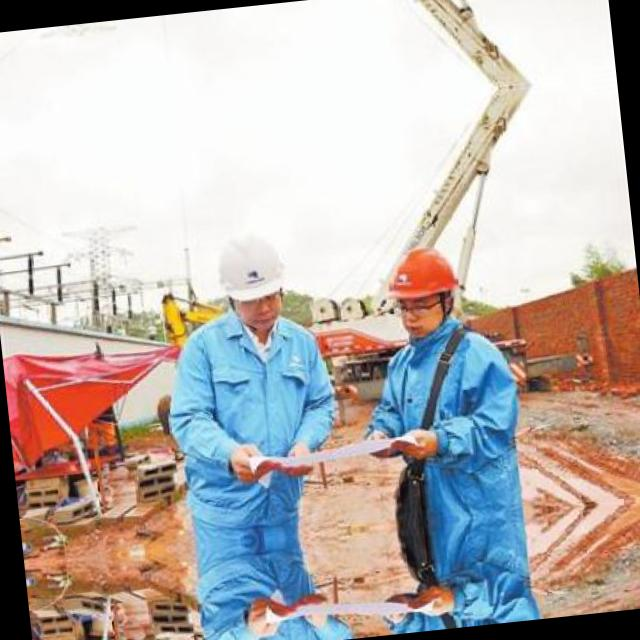helmet: (209, 220, 302, 340), (372, 236, 468, 340)
